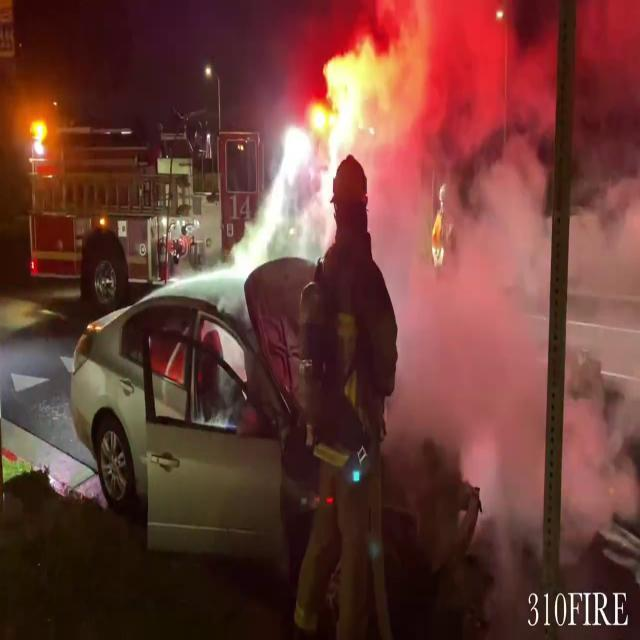Smoke: (361, 0, 640, 550)
